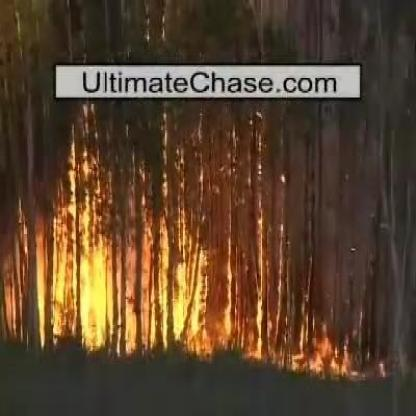foggia-v2-map80-epoch100 - v1 4323: (83, 240, 111, 330)
